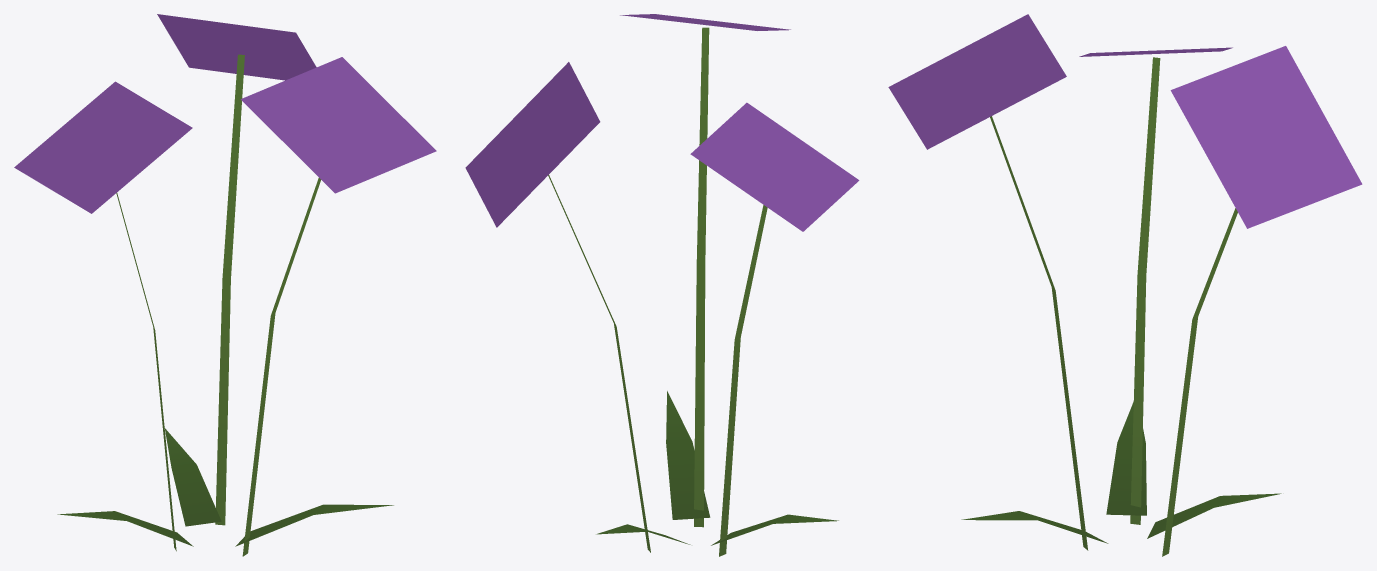
File: flower.meadow.purple.glb
The picture shows the model from 3 angles, left to right: view 1: azimuth 30°, elevation 25°; view 2: azimuth 150°, elevation 25°; view 3: azimuth 270°, elevation 25°; orthographic projection. The views are drawn at different scales.
Visible parts, largest first — view 1: flower_meadow_purple; view 2: flower_meadow_purple; view 3: flower_meadow_purple.
Part boxes in pixels (x1,y1,x2,y2): flower_meadow_purple: (14, 14, 436, 556); flower_meadow_purple: (465, 14, 859, 556); flower_meadow_purple: (888, 14, 1362, 556).
Size of the model in its own units: 0.2964 by 0.4204 by 0.3486.
